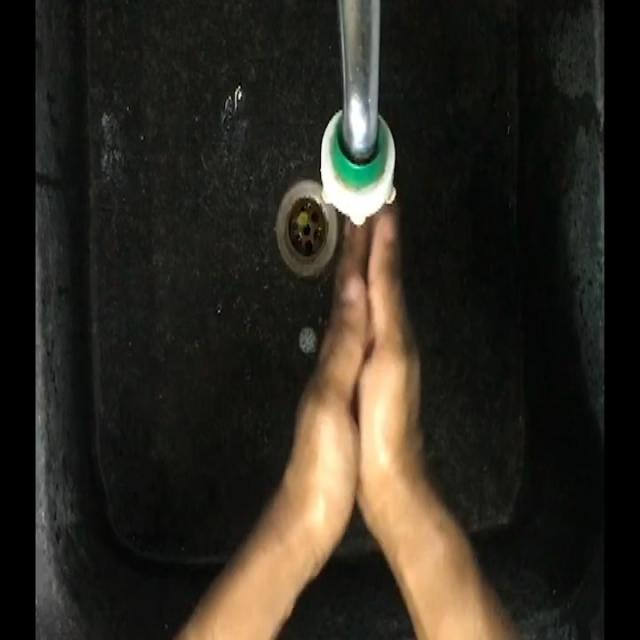step_1: (287, 130, 428, 483)
